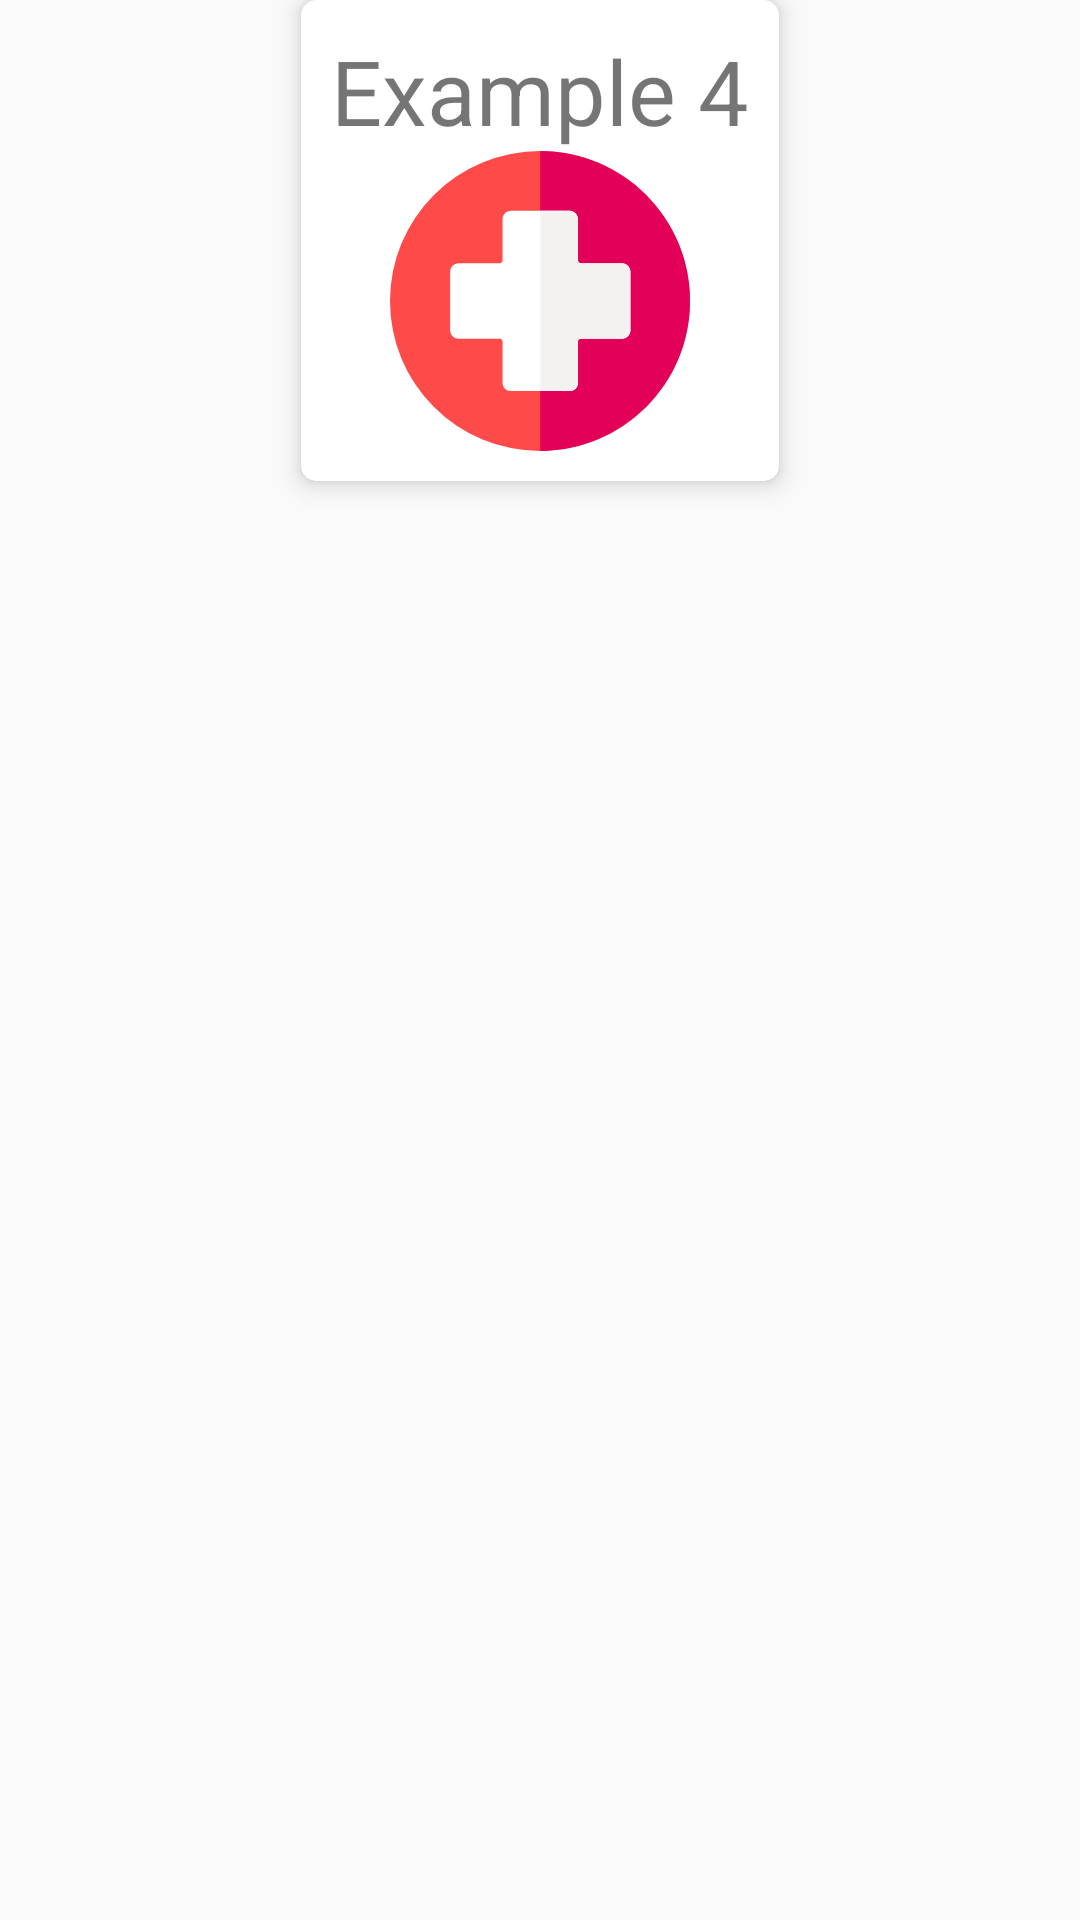

Screen size 1080 x 1920. Icon name, then its center in pixels as [x,y]:
medicine: [540,301]
